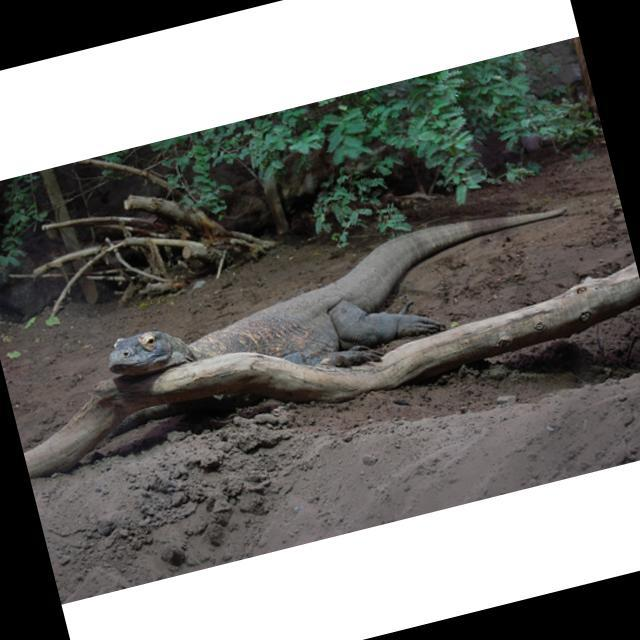KomodoDragon: (0, 185, 595, 457)
